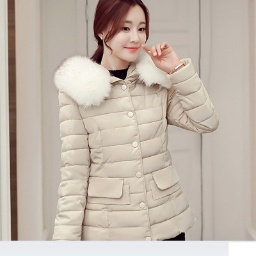face: (84, 1, 160, 68)
